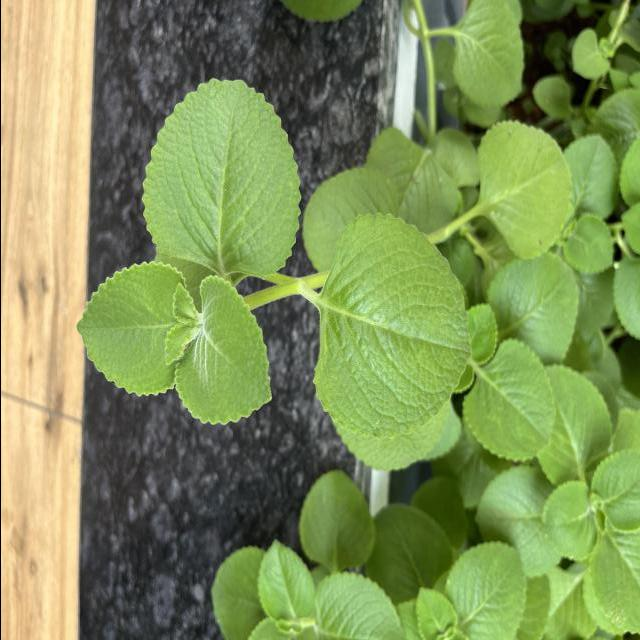Plectranthus barbatus: (311, 211, 472, 442), (140, 76, 302, 279), (73, 260, 187, 400), (172, 273, 273, 428), (474, 119, 572, 262), (460, 338, 555, 463), (469, 464, 562, 579), (484, 251, 578, 364), (536, 362, 612, 490), (440, 540, 526, 640), (450, 0, 524, 109), (538, 479, 599, 561)
